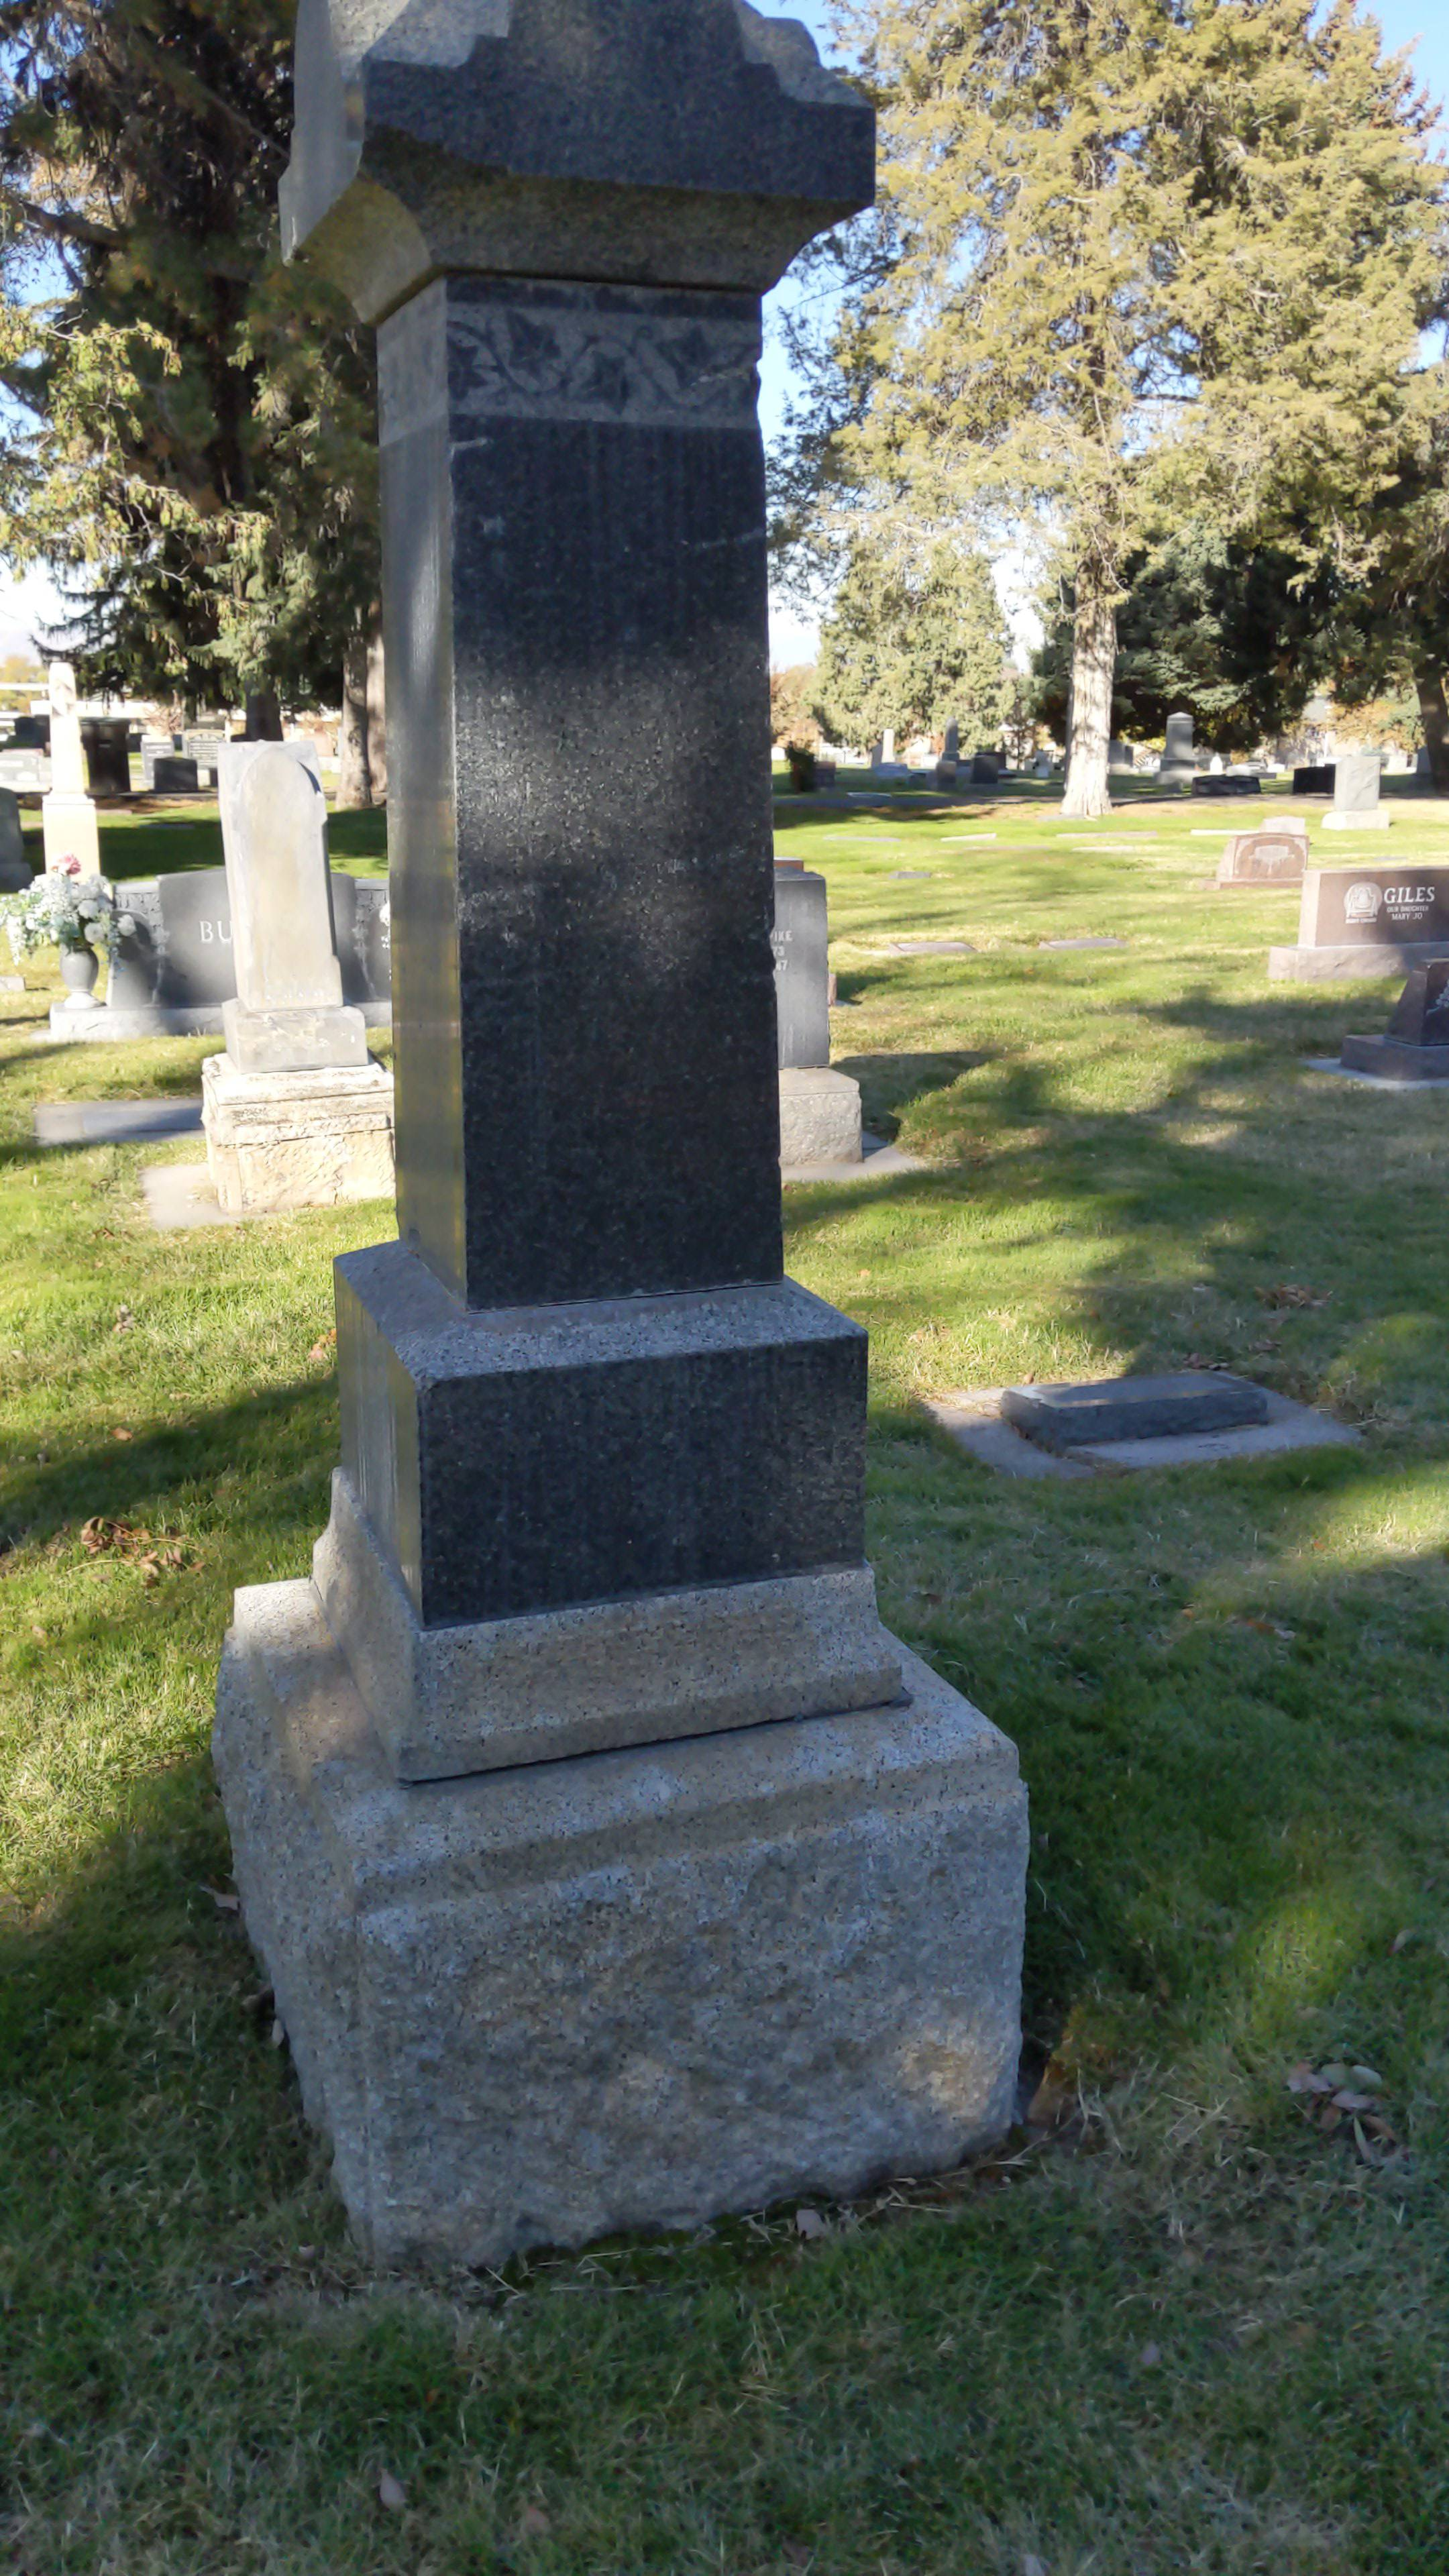obelisk: (274, 0, 904, 1789)
